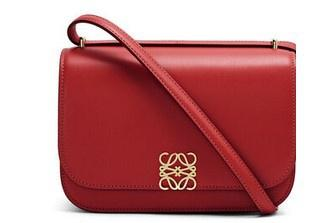LOEWE: (156, 146, 200, 196)
